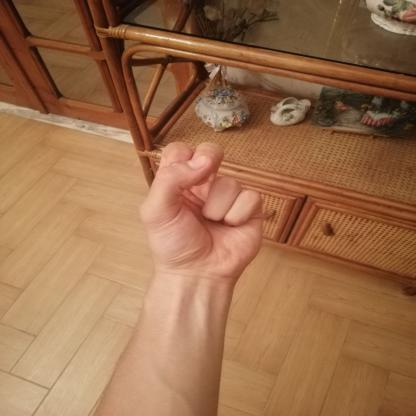QAAF: (120, 132, 282, 290)
